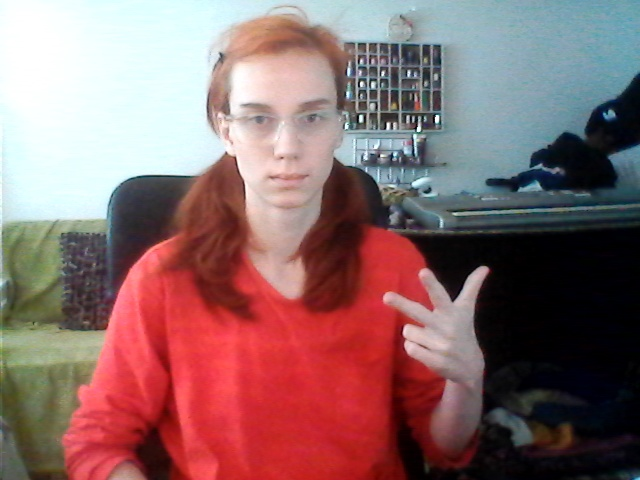tri: (374, 260, 501, 382)
